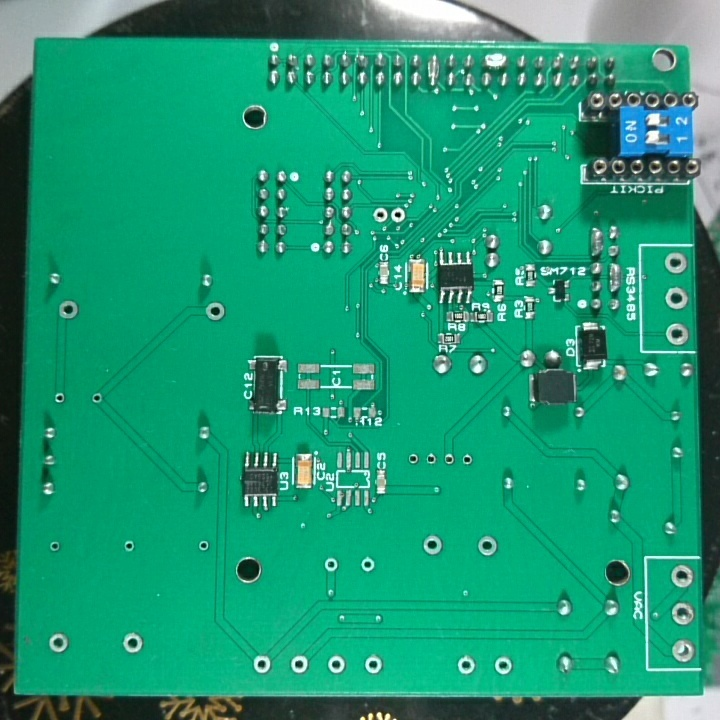F: (202, 298, 231, 326), (662, 284, 690, 312), (669, 637, 697, 664), (662, 249, 688, 278), (45, 629, 71, 658), (668, 563, 696, 589), (670, 600, 696, 628), (421, 532, 447, 559), (663, 318, 688, 346), (117, 630, 145, 655), (474, 533, 500, 559), (491, 653, 515, 681), (55, 298, 81, 323), (288, 652, 311, 678), (454, 652, 477, 677), (362, 652, 385, 675), (325, 653, 348, 676), (250, 651, 272, 675), (389, 203, 408, 227), (438, 449, 459, 470), (370, 203, 390, 225), (459, 449, 476, 474), (322, 554, 342, 575), (358, 555, 378, 576), (120, 535, 137, 557), (422, 448, 439, 470), (51, 387, 68, 408), (405, 449, 422, 470), (195, 536, 213, 555), (88, 389, 106, 407), (47, 538, 63, 557)
P: (423, 52, 441, 91), (585, 223, 605, 258), (478, 50, 510, 71), (606, 260, 621, 294)
